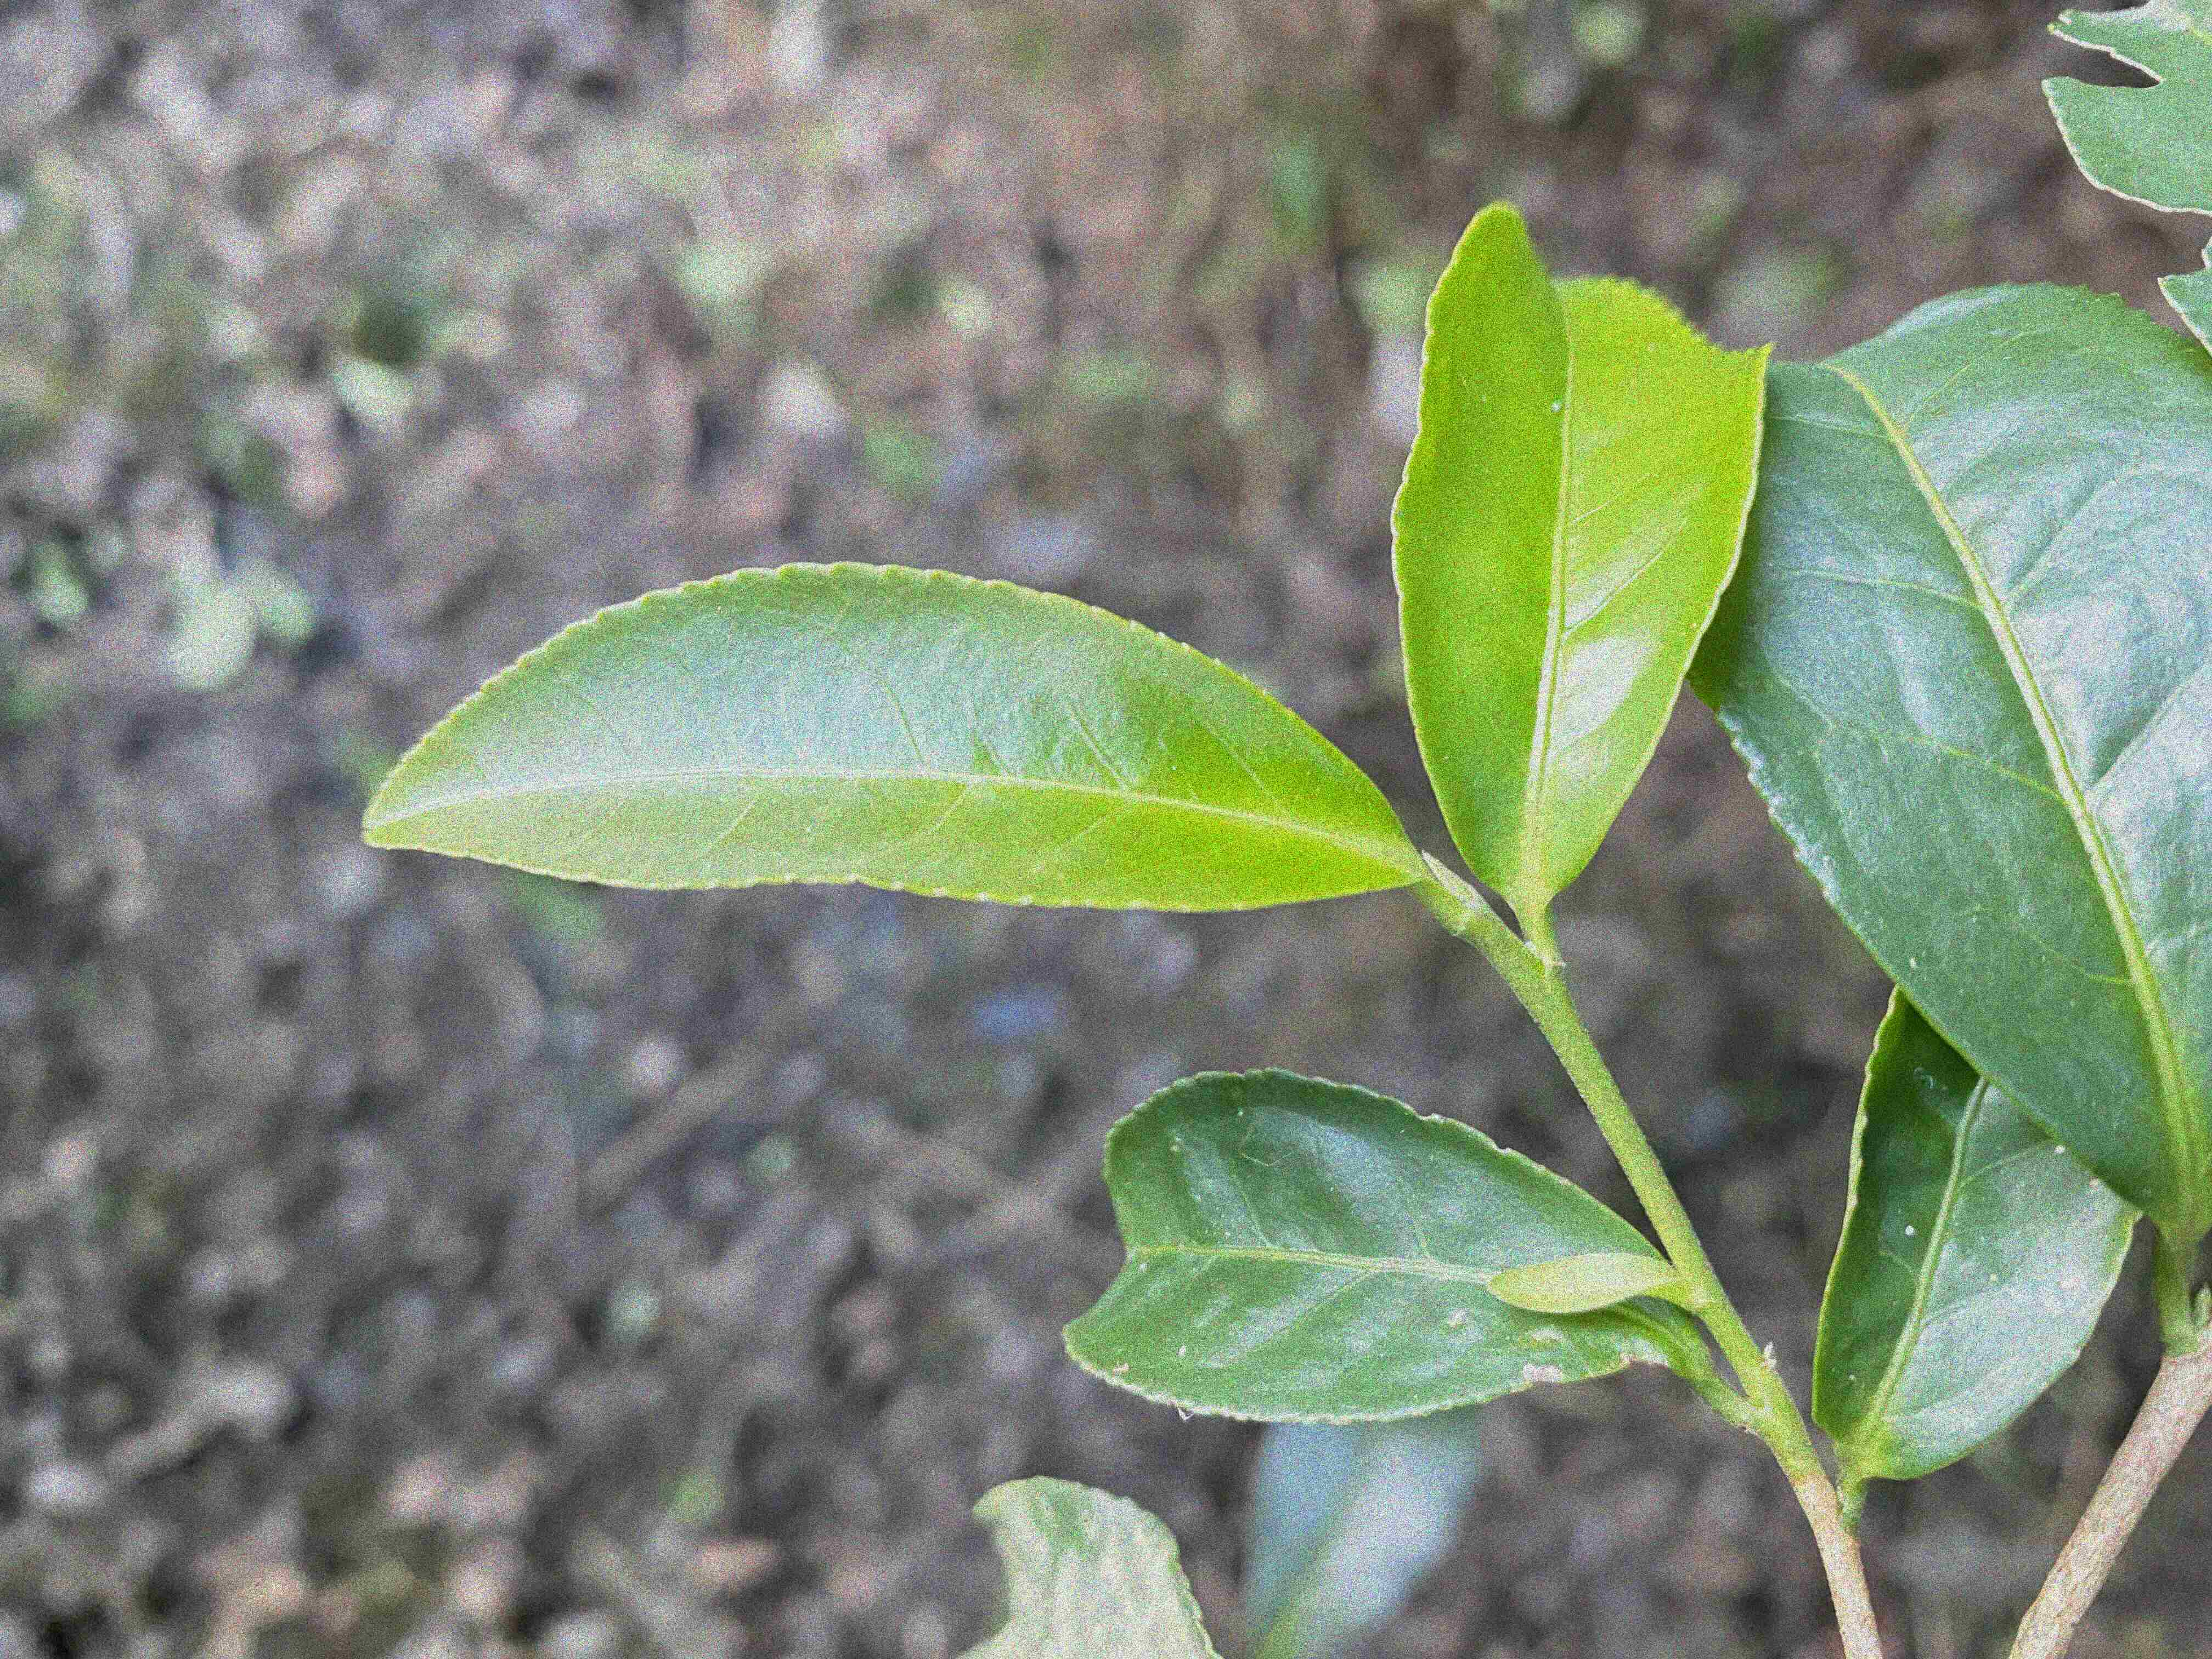chihuo_high: (1386, 197, 1771, 904), (2040, 3, 2209, 368)
healthy: (1683, 282, 2209, 1248), (355, 556, 1418, 920)
tanju_low: (1061, 1061, 1714, 1432)
